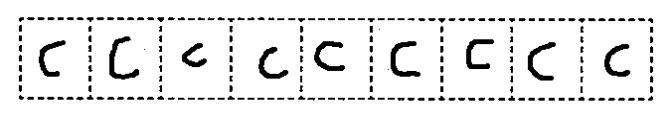C: (105, 33, 144, 83), (522, 37, 560, 86), (251, 43, 293, 86), (385, 37, 426, 80), (32, 38, 71, 82), (600, 37, 638, 80), (308, 38, 350, 76), (461, 34, 500, 73), (175, 37, 211, 73)
